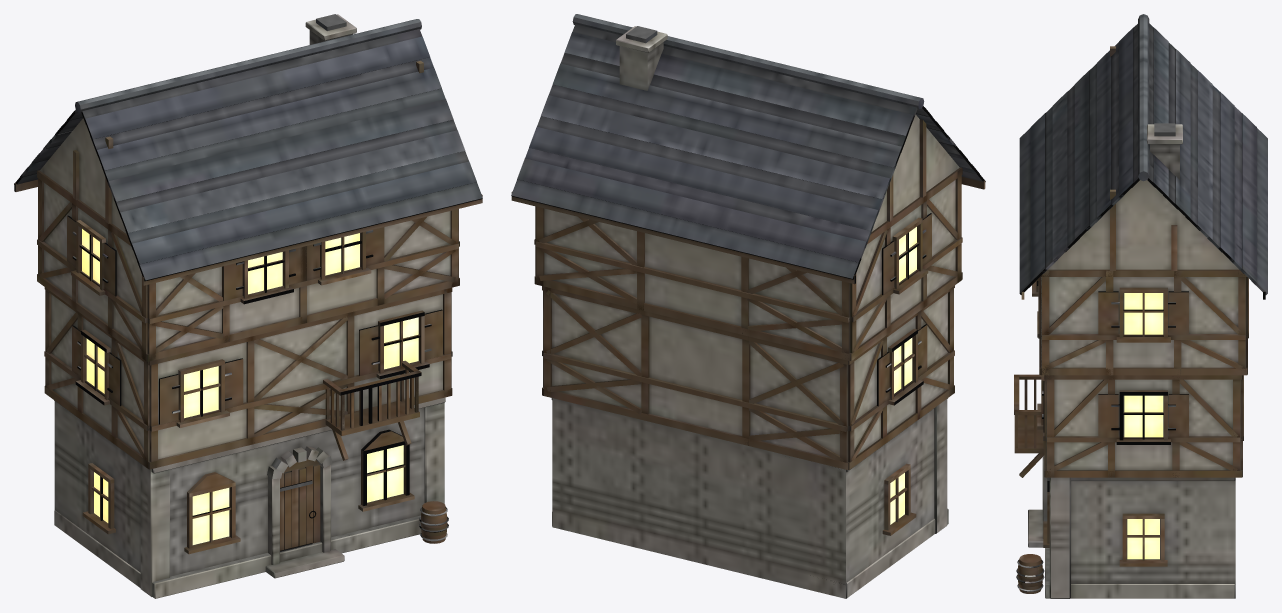
The model's file is casa_b.glb.
3 views of the same model, side by side, from view 1: azimuth 30°, elevation 25°; view 2: azimuth 150°, elevation 25°; view 3: azimuth 270°, elevation 25° (orthographic). The views are drawn at different scales.
Visible parts, largest first — view 1: casa_b; view 2: casa_b; view 3: casa_b.
Part boxes in pixels (x1,y1,x2,y2): casa_b: (14,14,482,598); casa_b: (511,14,985,598); casa_b: (1014,14,1267,598).
Bounding box in the file's own units: 8.7 × 11.54 × 5.93.
1 material, 1 textured.
